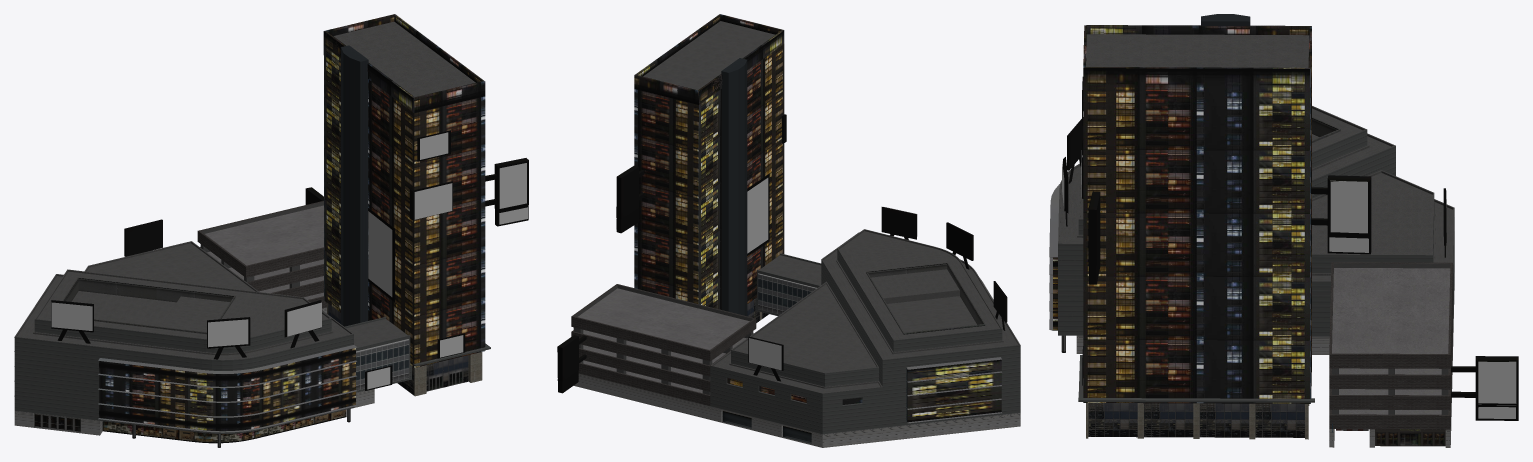
File: BLD1310008.fbx
3 renders of one model, left to right at view 1: azimuth 30°, elevation 25°; view 2: azimuth 150°, elevation 25°; view 3: azimuth 270°, elevation 25°, orthographic. The views are drawn at different scales.
Visible parts, largest first — view 1: smBLD1310008; view 2: smBLD1310008; view 3: smBLD1310008.
Part boxes in pixels (x1,y1,x2,y2): smBLD1310008: (14, 14, 528, 447); smBLD1310008: (557, 14, 1020, 447); smBLD1310008: (1049, 14, 1518, 447).
Bounding box in the file's own units: 7191 × 4674 × 5284.
7 materials, 2 textured.
